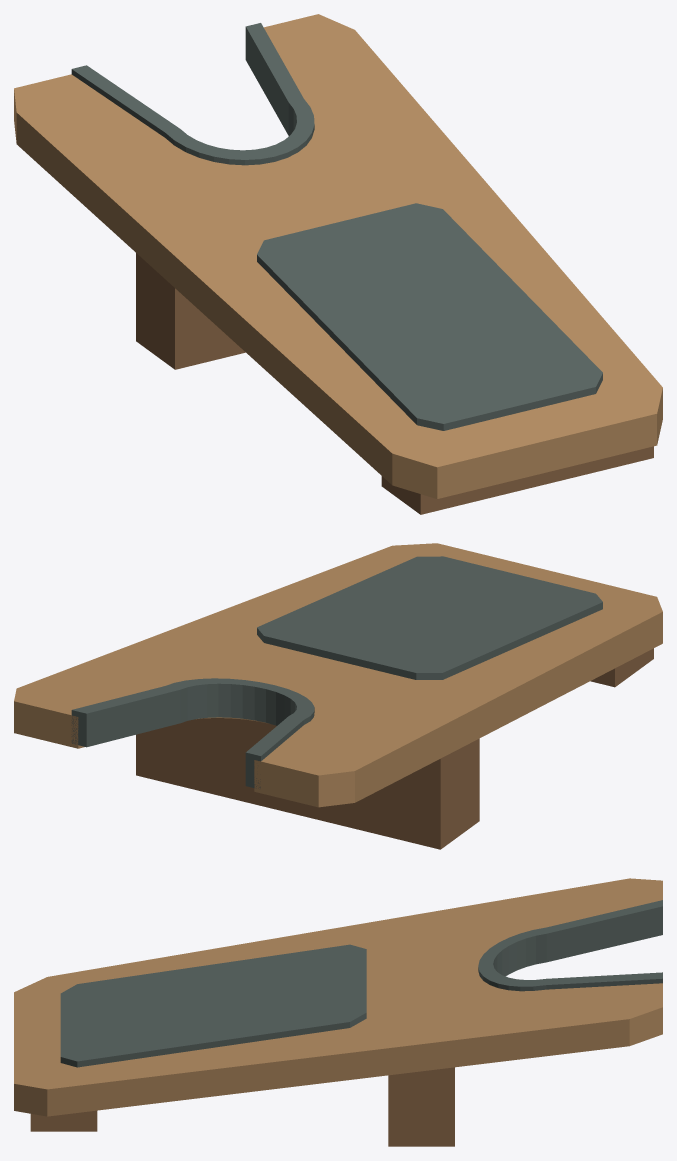
3 renders of one model, top to bottom at view 1: azimuth 30°, elevation 25°; view 2: azimuth 150°, elevation 25°; view 3: azimuth 270°, elevation 25°, orthographic. The views are drawn at different scales.
Parts seen in each view (by area): view 1: WholeInclinedBoardAndOpenHeelFork, WholeRearStandingPad, WholeOpenUShapedHeelLiner, WholeFrontGroundedSlopedCrossfoot, WholeRearGroundedSlopedCrossfoot; view 2: WholeInclinedBoardAndOpenHeelFork, WholeRearStandingPad, WholeFrontGroundedSlopedCrossfoot, WholeOpenUShapedHeelLiner, WholeRearGroundedSlopedCrossfoot; view 3: WholeInclinedBoardAndOpenHeelFork, WholeRearStandingPad, WholeOpenUShapedHeelLiner, WholeFrontGroundedSlopedCrossfoot, WholeRearGroundedSlopedCrossfoot.
Boxes of the visible parts, box(x1,y1,x2,y2) form: WholeInclinedBoardAndOpenHeelFork: box(14, 14, 662, 498); WholeRearStandingPad: box(257, 203, 602, 430); WholeOpenUShapedHeelLiner: box(71, 23, 314, 165); WholeFrontGroundedSlopedCrossfoot: box(136, 253, 245, 369); WholeRearGroundedSlopedCrossfoot: box(381, 446, 653, 514); WholeInclinedBoardAndOpenHeelFork: box(14, 543, 662, 807); WholeRearStandingPad: box(257, 556, 602, 679); WholeFrontGroundedSlopedCrossfoot: box(136, 718, 479, 849); WholeOpenUShapedHeelLiner: box(71, 678, 314, 788); WholeRearGroundedSlopedCrossfoot: box(590, 648, 653, 687); WholeInclinedBoardAndOpenHeelFork: box(14, 878, 662, 1116); WholeRearStandingPad: box(60, 944, 366, 1067); WholeOpenUShapedHeelLiner: box(478, 900, 662, 991); WholeFrontGroundedSlopedCrossfoot: box(388, 1067, 454, 1146); WholeRearGroundedSlopedCrossfoot: box(30, 1110, 97, 1131).
Bounding box in the file's own units: 0.2 × 0.0954 × 0.39.
